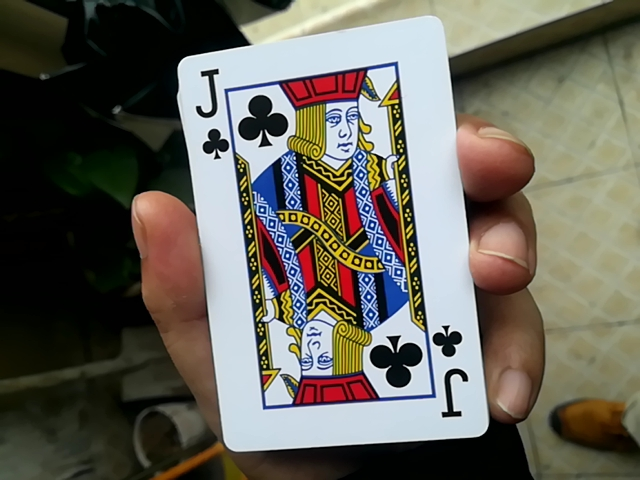mh j: (168, 3, 488, 437)
